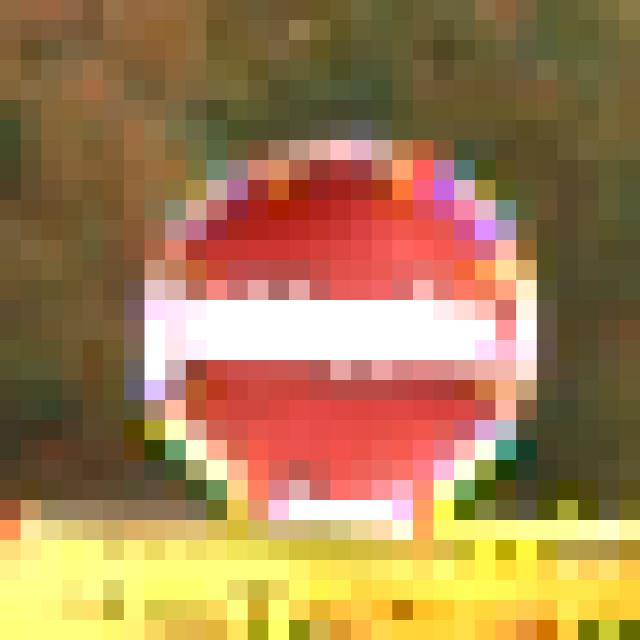No Entry: (104, 121, 517, 541)
